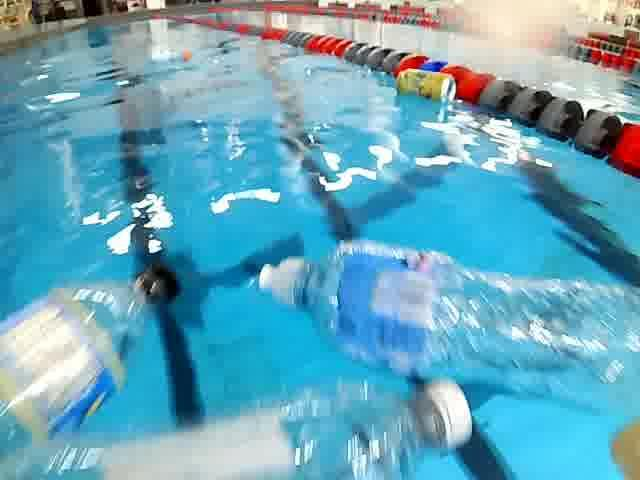Bottle: (257, 235, 640, 421), (0, 372, 479, 480), (0, 251, 192, 470)
Can: (394, 65, 460, 106)
